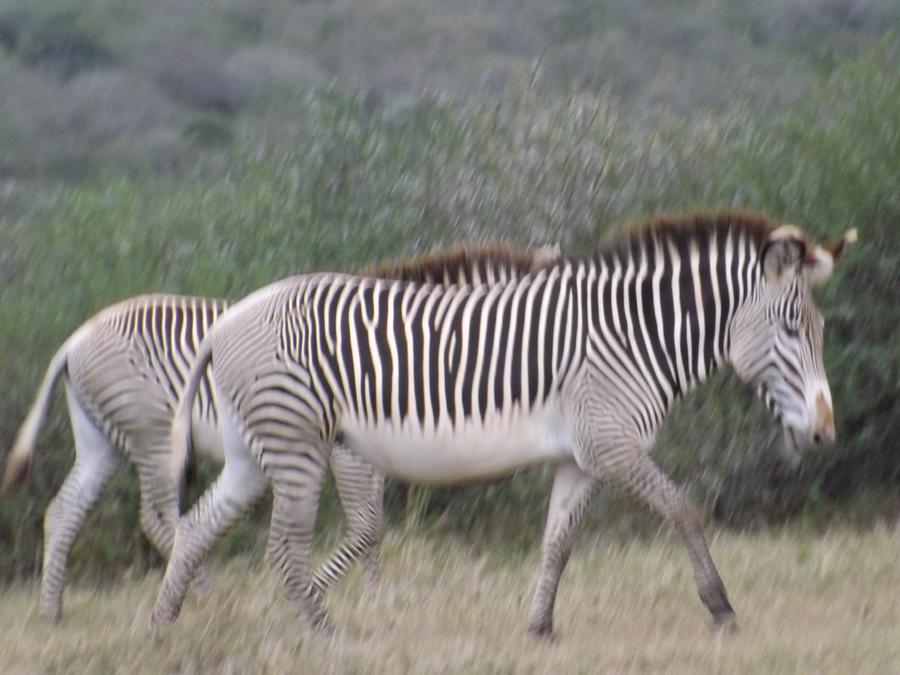zebra_grevys: (192, 252, 666, 450)
